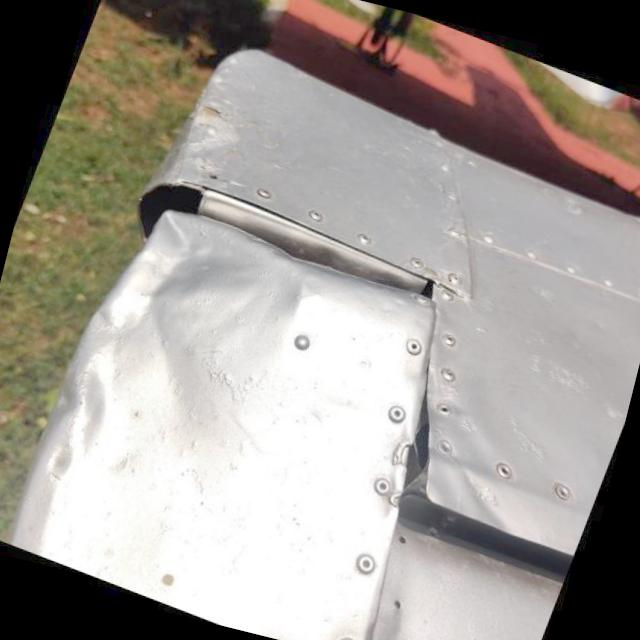Missing Fastener: (390, 528, 418, 556), (385, 590, 411, 616), (200, 168, 224, 190)
dent: (84, 194, 330, 372), (32, 306, 184, 505)
